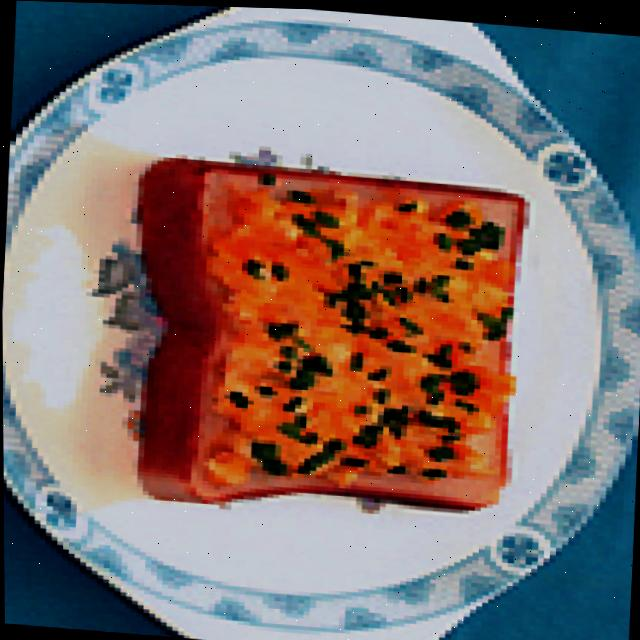面包点心: (122, 146, 551, 523)
